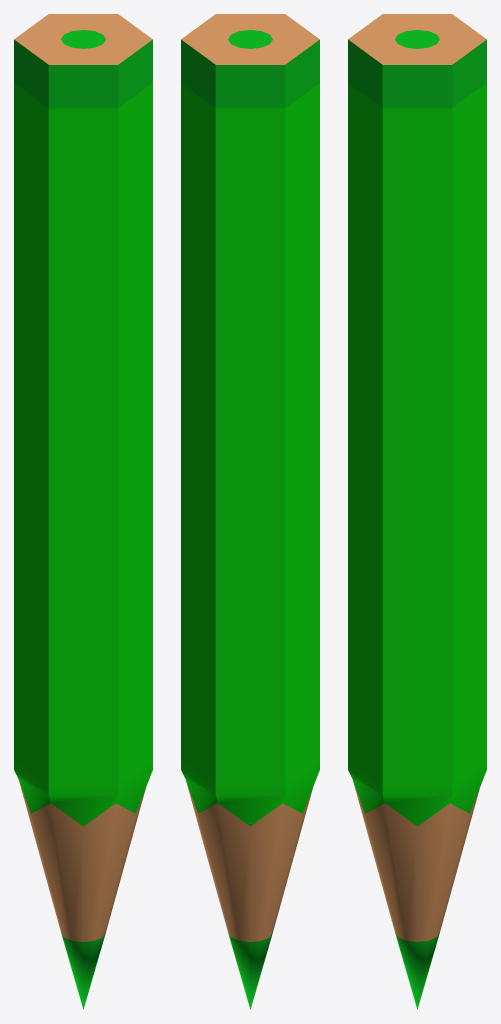
File: Green Pencile.fbx
3 renders of one model, left to right at view 1: azimuth 90°, elevation 25°; view 2: azimuth 150°, elevation 25°; view 3: azimuth 330°, elevation 25°, orthographic.
Visible parts, largest first — view 1: Cylinder.002; view 2: Cylinder.002; view 3: Cylinder.002.
Boxes of the visible parts, <box> form: Cylinder.002: <box>14,14,152,1009</box>; Cylinder.002: <box>181,14,319,1009</box>; Cylinder.002: <box>348,14,486,1009</box>.
Size of the model in its own units: 174 by 1542 by 200.
